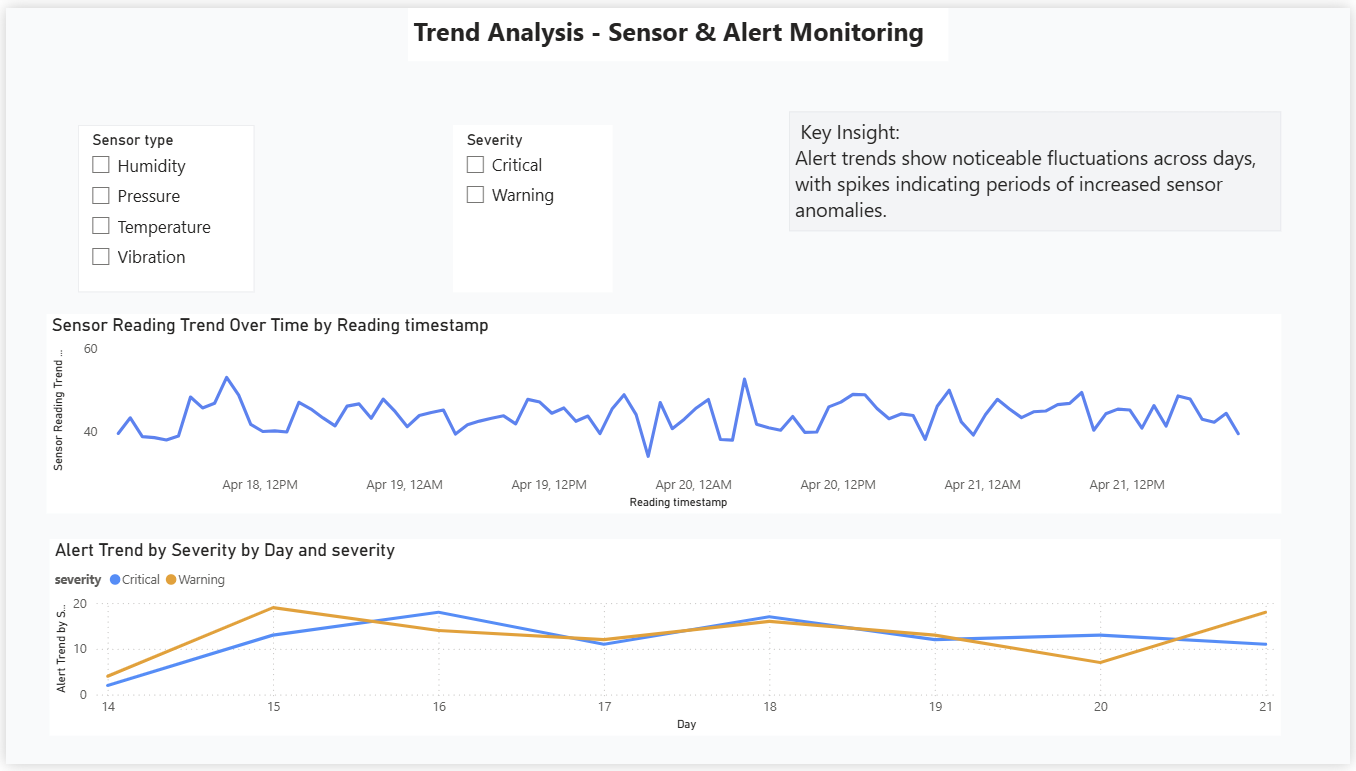

The dashboard page shown, as its layout file describes it:
{"tool":"powerbi","page":{"name":"Trend Analysis","canvas":[1280,720],"ordinal":2},"visuals":[{"type":"lineChart","fields":{"Y":["Avg(public fact_sensor_reading.reading_value)"],"Category":["public fact_sensor_reading.reading_timestamp"]},"box":[38.6,291.4,1175.7,190],"z":0},{"type":"slicer","fields":{"Values":["public dim_sensor.sensor_type"]},"box":[68.1,111.3,168.2,159.6],"z":1000},{"type":"lineChart","fields":{"Y":["CountNonNull(public vw_alert_summary.alert_id)"],"Series":["public vw_alert_summary.severity"],"Category":["public vw_alert_summary.alert_timestamp.Variation.Date Hierarchy.Day"]},"box":[41.4,505.7,1172.9,187.1],"z":2000},{"type":"slicer","fields":{"Values":["public vw_alert_summary.severity"]},"box":[425.2,111.1,152,159.5],"z":3000},{"type":"textbox","box":[382.5,0,514.9,50.9],"z":4000},{"type":"textbox","box":[745.7,98.6,468.6,114.3],"z":5000}]}

Visuals, with their boxes in screenshot pixels (x1, y1, x2, y2), scaled from the page's 1280x720 canvas onto the 1356x771 screenshot:
lineChart - Avg(public fact_sensor_reading.reading_value) x public fact_sensor_reading.reading_timestamp: x1=41 y1=312 x2=1286 y2=515
slicer - public dim_sensor.sensor_type: x1=72 y1=119 x2=250 y2=290
lineChart - CountNonNull(public vw_alert_summary.alert_id) x public vw_alert_summary.severity: x1=44 y1=542 x2=1286 y2=742
slicer - public vw_alert_summary.severity: x1=450 y1=119 x2=611 y2=290
textbox: x1=405 y1=0 x2=951 y2=55
textbox: x1=790 y1=106 x2=1286 y2=228
